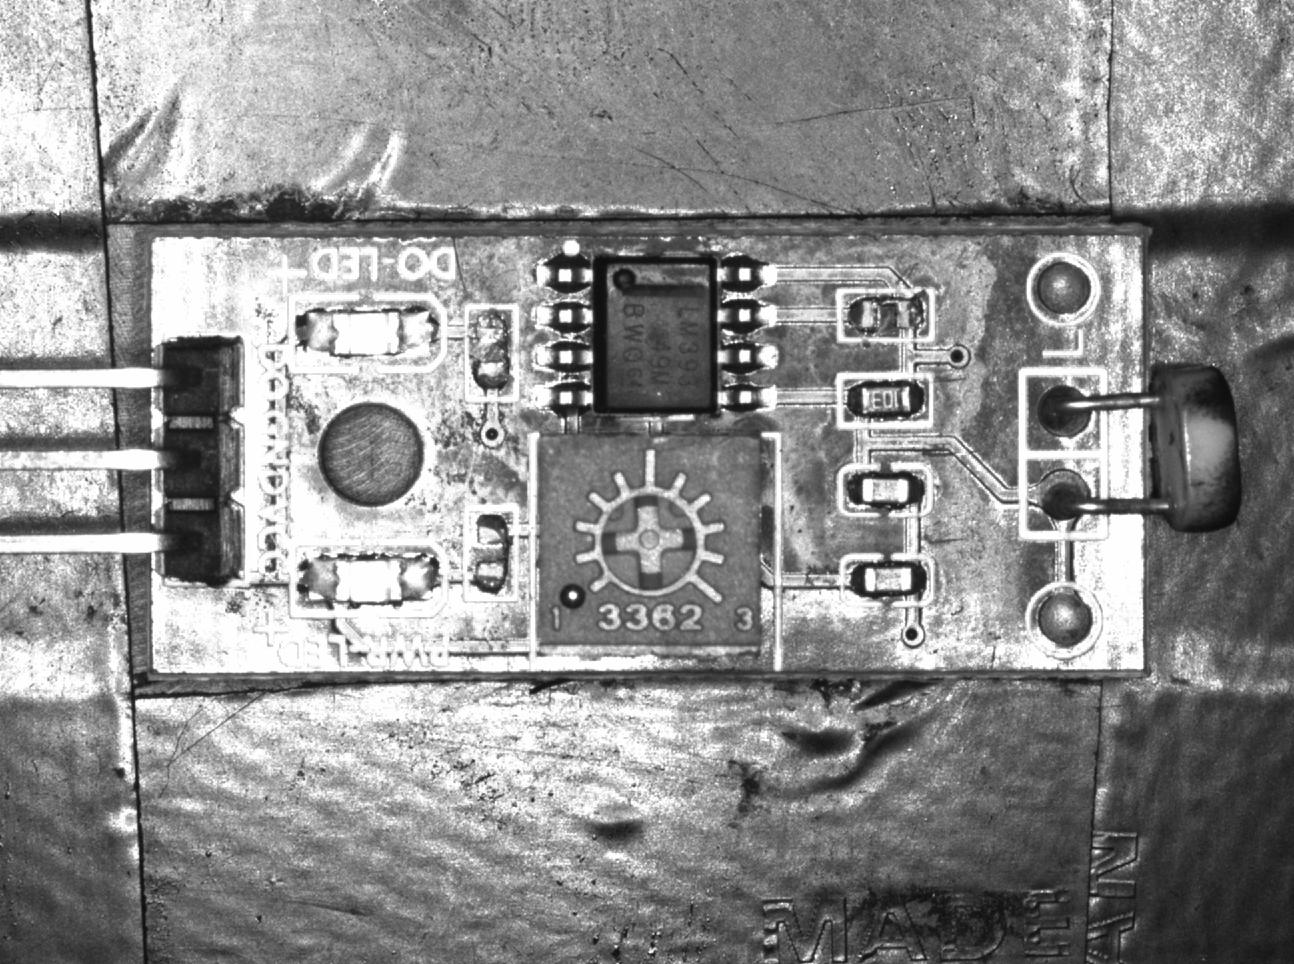miss: (466, 305, 520, 404), (465, 504, 519, 601), (835, 289, 934, 340)
ok: (840, 374, 933, 431), (843, 463, 931, 516), (841, 556, 934, 604)
